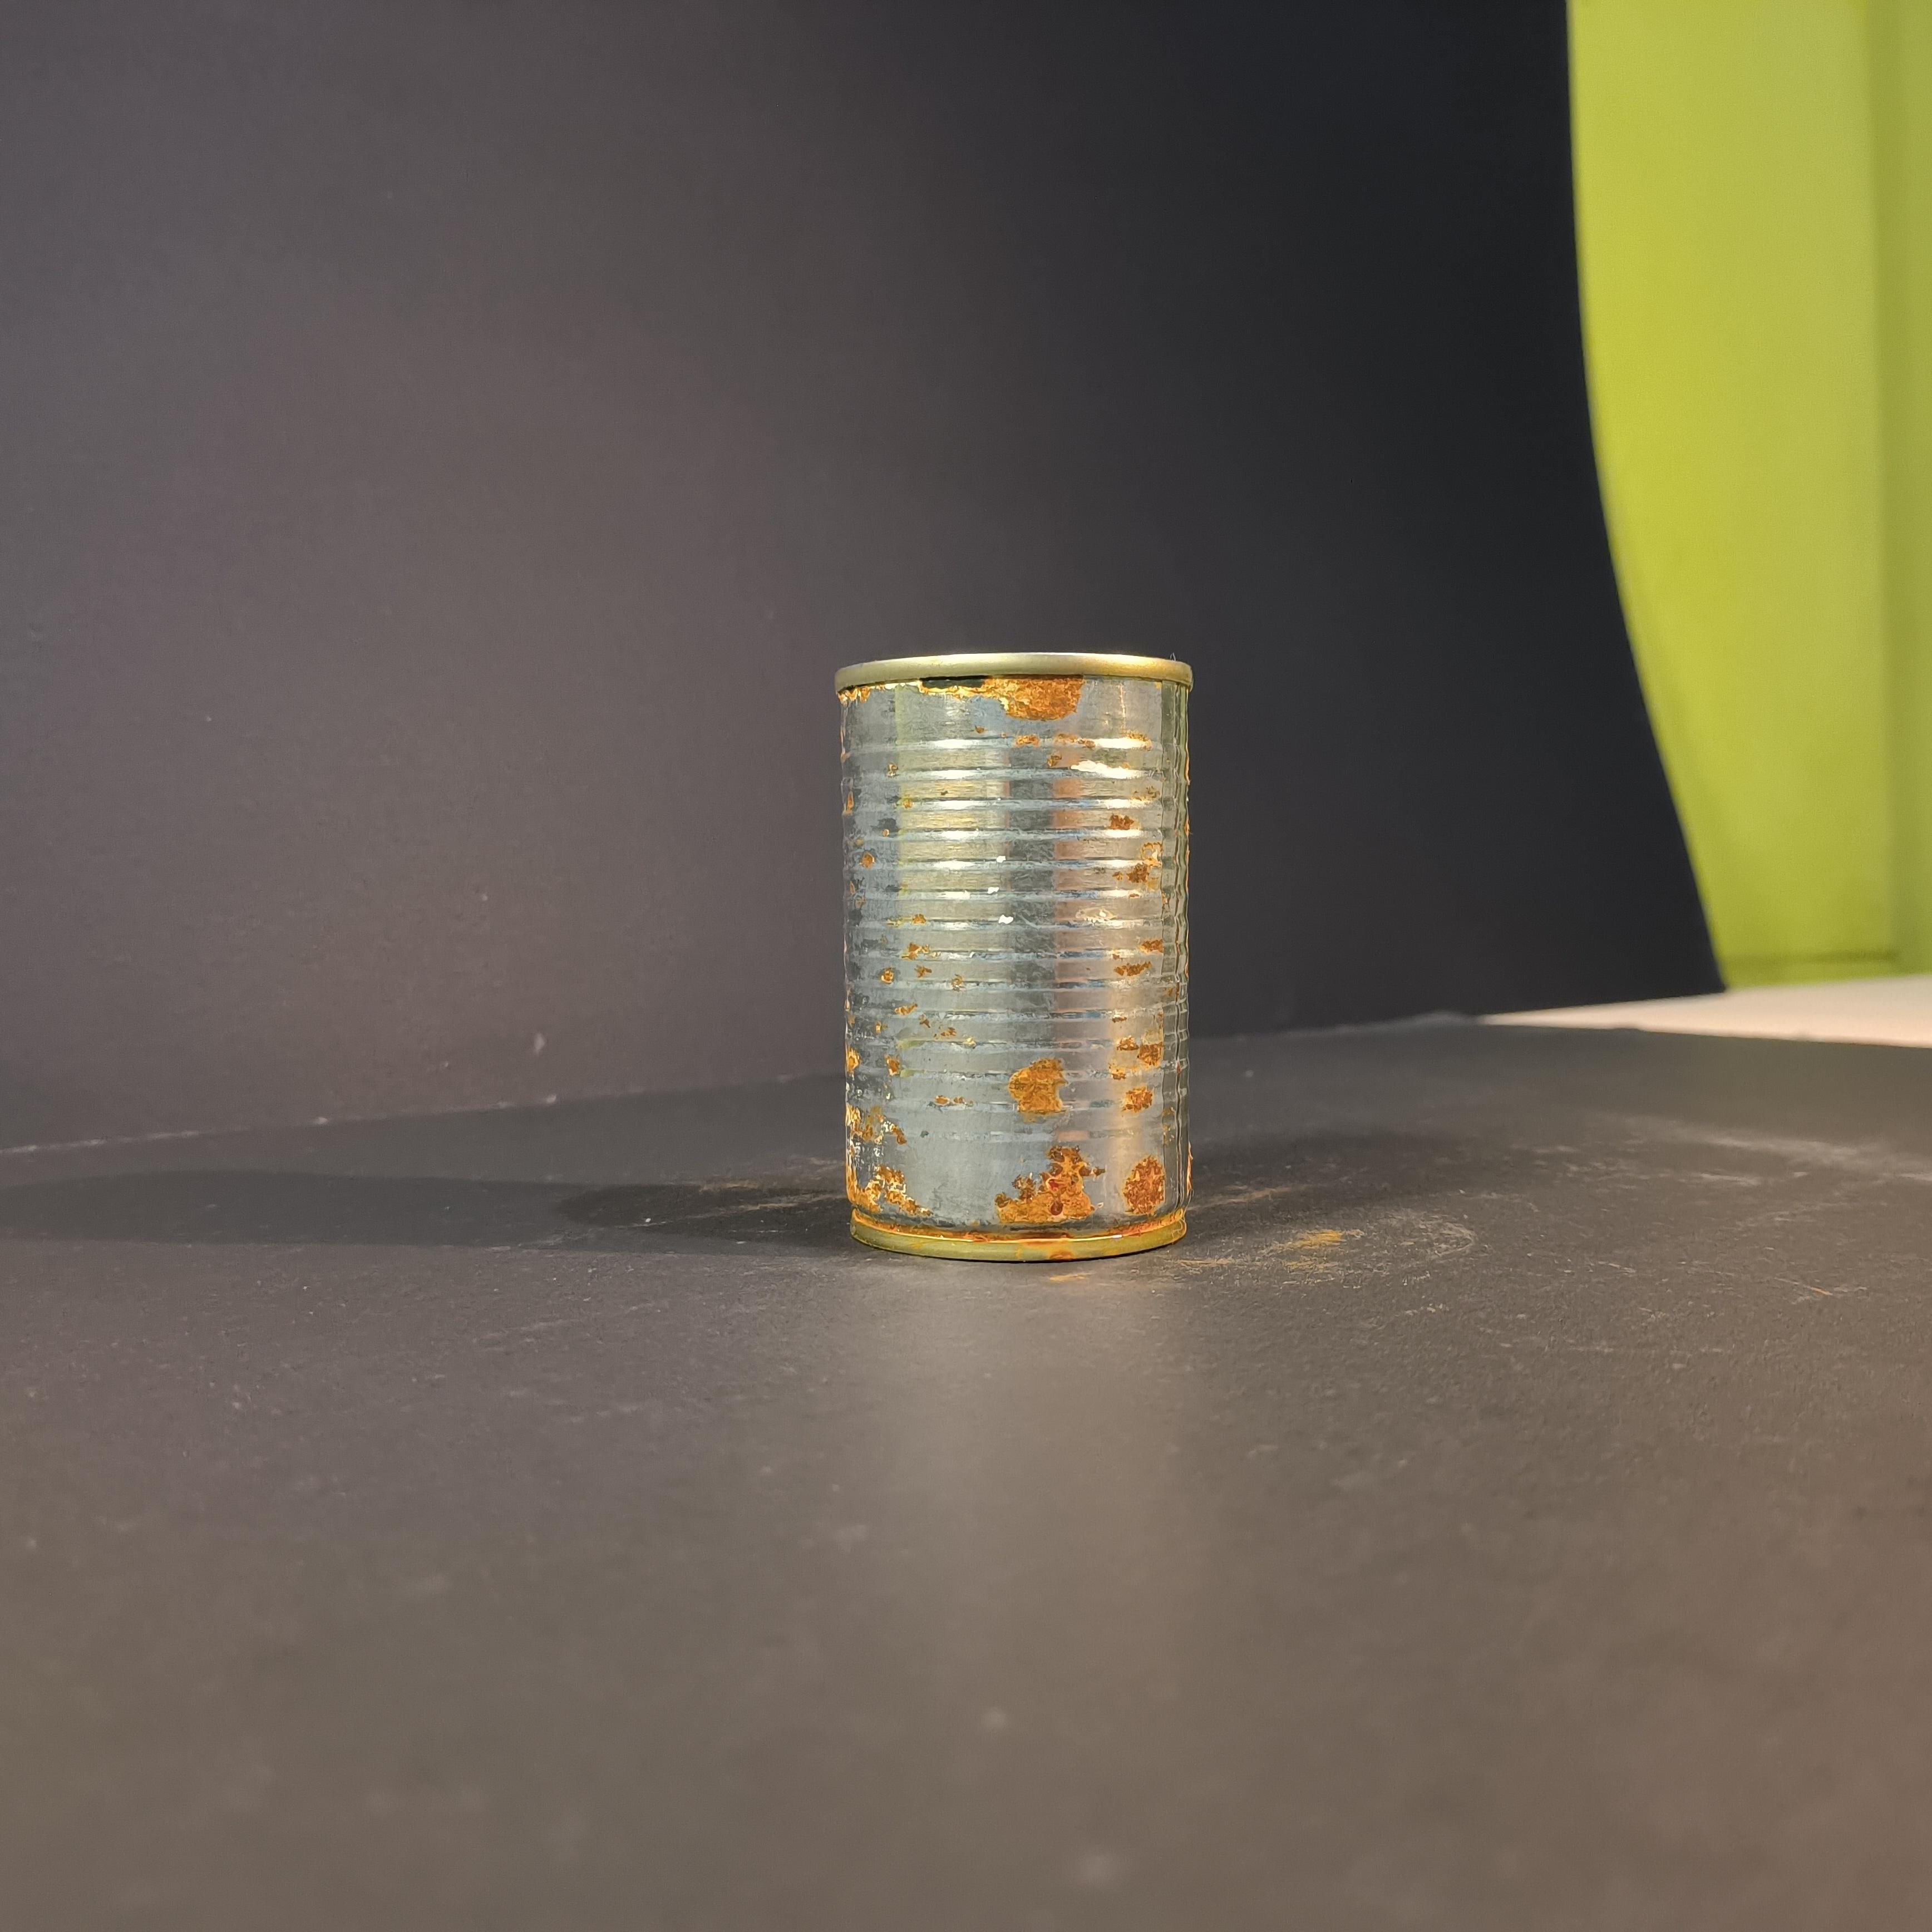Rusted: (803, 628, 1207, 1299)
